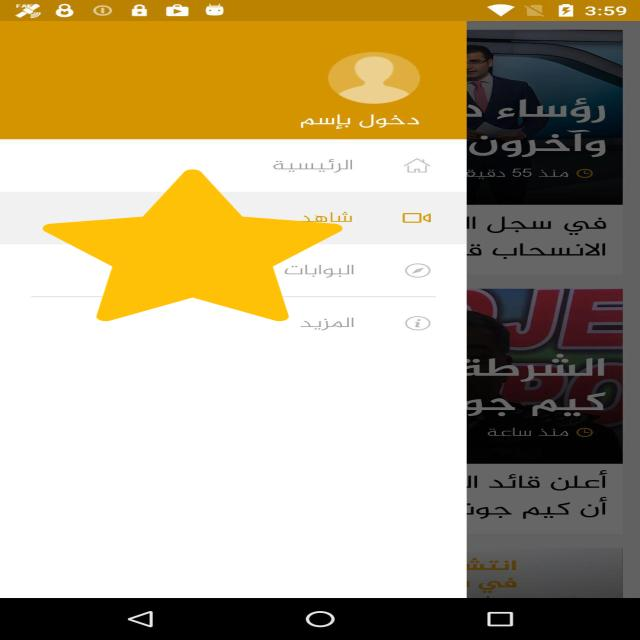forced continuity: (42, 170, 342, 322)
